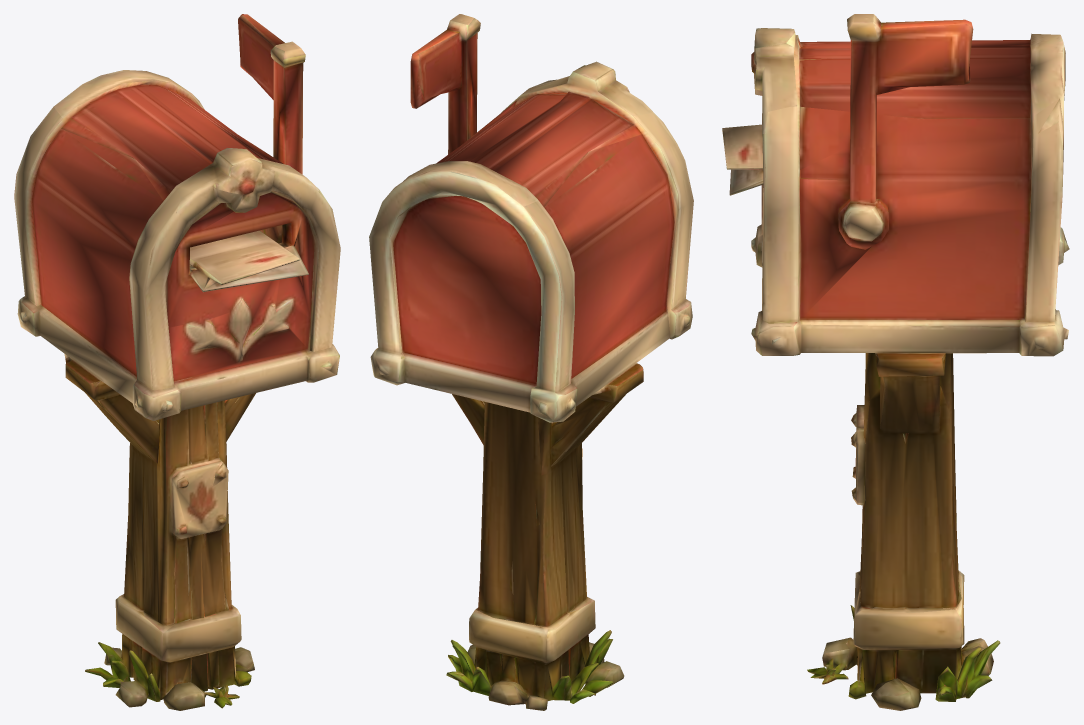
Rendered from mailbox.glb.
3 views of the same model, side by side, from view 1: azimuth 30°, elevation 25°; view 2: azimuth 150°, elevation 25°; view 3: azimuth 270°, elevation 25° (orthographic). The views are drawn at different scales.
Parts seen in each view (by area): view 1: Mesh1.0; view 2: Mesh1.0; view 3: Mesh1.0.
Boxes of the visible parts, left/top/right/bottom form: Mesh1.0: left=14, top=14, right=340, bottom=710; Mesh1.0: left=369, top=14, right=693, bottom=710; Mesh1.0: left=722, top=14, right=1069, bottom=710.
Size of the model in its own units: 0.6575 by 1.9 by 0.8493.
Materials: 1 (1 with a texture image).
